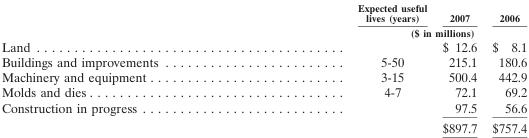table: (0, 1, 526, 135)
table column: (0, 1, 257, 135), (257, 1, 434, 135), (434, 1, 483, 135), (483, 1, 526, 135)
table column header: (0, 1, 526, 38)
table row: (0, 1, 526, 24), (0, 99, 526, 117), (0, 117, 526, 135), (0, 38, 526, 54), (0, 54, 526, 69), (0, 69, 526, 84), (0, 84, 526, 99), (0, 24, 526, 38)
table spanning cell: (257, 24, 526, 38)
